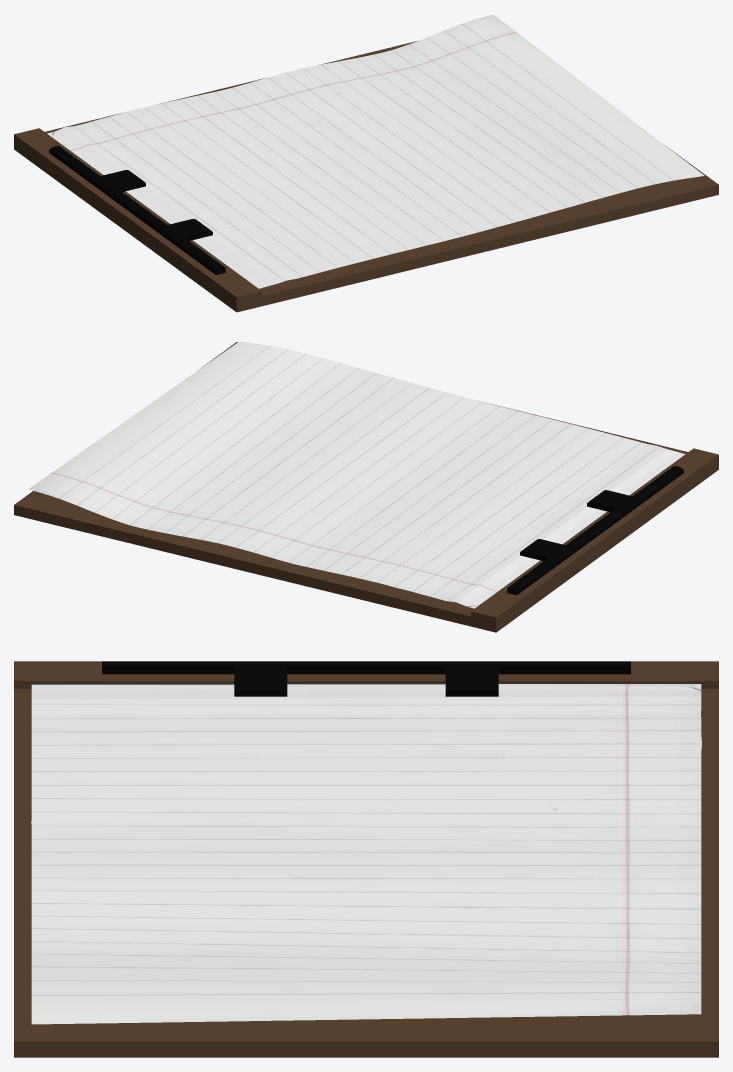
File: paper_pad.fbx
The picture shows the model from 3 angles, top to bottom: view 1: azimuth 30°, elevation 25°; view 2: azimuth 150°, elevation 25°; view 3: azimuth 270°, elevation 25°; orthographic projection. The views are drawn at different scales.
Parts seen in each view (by area): view 1: Paper, Pad, Clips; view 2: Paper, Pad, Clips; view 3: Paper, Pad, Clips.
Part boxes in pixels (x1=…): Paper: x1=47, y1=14, x2=704, y2=288; Pad: x1=14, y1=41, x2=718, y2=312; Clips: x1=49, y1=145, x2=225, y2=274; Paper: x1=28, y1=341, x2=685, y2=608; Pad: x1=14, y1=342, x2=718, y2=632; Clips: x1=507, y1=466, x2=683, y2=595; Paper: x1=31, y1=684, x2=701, y2=1024; Pad: x1=14, y1=661, x2=718, y2=1057; Clips: x1=102, y1=661, x2=630, y2=696.
Size of the model in its own units: 50 by 2.32 by 40.
